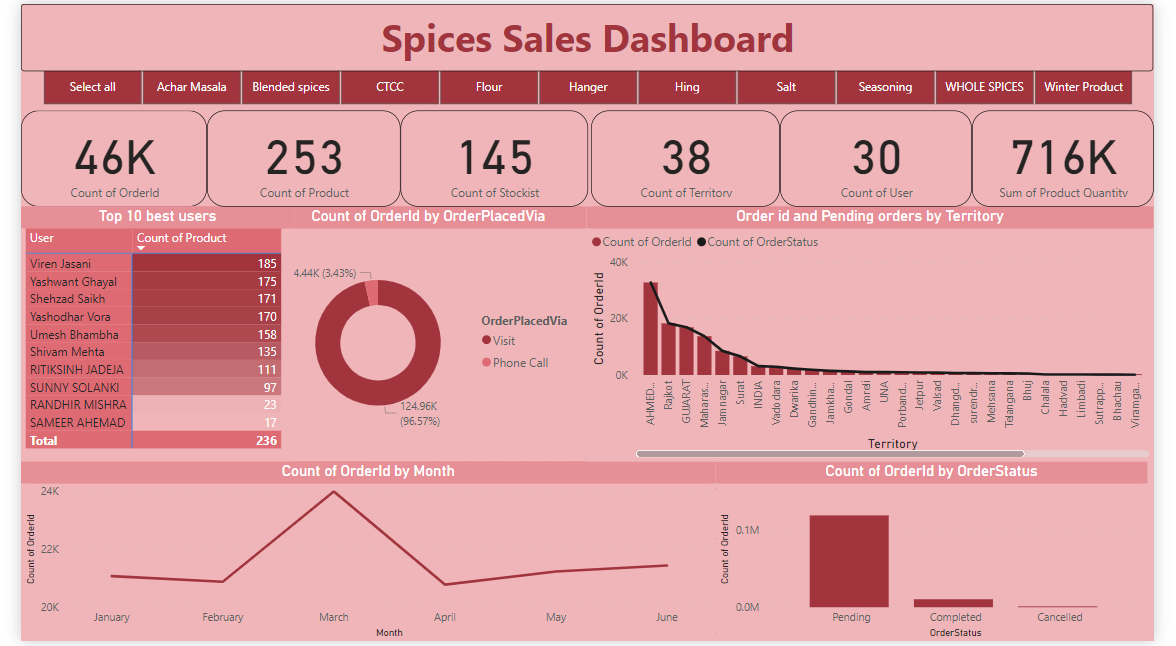

This screenshot's page, from the dashboard's own definition file:
{"tool":"powerbi","page":{"name":"Page 1","canvas":[1280,720],"ordinal":0},"visuals":[{"type":"donutChart","fields":{"Category":["MasterDB.OrderPlacedVia"],"Y":["MasterDB.OrderId"]},"box":[281.4,228.8,357.6,288.1],"z":0},{"type":"card","fields":{"Values":["MasterDB.OrderId"]},"box":[0,120.3,210.2,108.5],"z":1000},{"type":"card","fields":{"Values":["MasterDB.Product"]},"box":[639,608.5,255.9,111.9],"z":2000},{"type":"card","fields":{"Values":["MasterDB.User"]},"box":[674.6,547.5,220.3,111.9],"z":3000},{"type":"slicer","fields":{"Values":["MasterDB.ProductCategory"]},"box":[0,64.4,1279.7,55.9],"z":4000},{"type":"card","fields":{"Values":["MasterDB.Stockist"]},"box":[993.2,608.5,261,111.9],"z":5000},{"type":"card","fields":{"Values":["MasterDB.Territory"]},"box":[715.3,603.4,313.6,108.5],"z":6000},{"type":"clusteredColumnChart","fields":{"Category":["MasterDB.OrderStatus"],"Y":["MasterDB.OrderId"]},"box":[784.7,516.9,488.1,203.4],"z":7000},{"type":"lineChart","fields":{"Category":["MasterDB.OrderDate.Variation.Date Hierarchy.Month"],"Y":["MasterDB.OrderId"]},"box":[0,516.9,784.7,203.4],"z":8000},{"type":"pivotTable","title":"Top 10 best users","fields":{"Values":["MasterDB.Product"],"Rows":["MasterDB.User"]},"box":[0,228.8,308.5,288.1],"z":9000},{"type":"lineClusteredColumnComboChart","title":"Order id and Pending orders by Territory","fields":{"Category":["MasterDB.Territory"],"Y":["MasterDB.OrderId"],"Y2":["MasterDB.OrderStatus"]},"box":[639,228.8,640.7,288.1],"z":10000},{"type":"textbox","box":[0,0,1279.7,76.3],"z":11000},{"type":"card","fields":{"Values":["MasterDB.Product"]},"box":[210.2,120.3,218.6,108.5],"z":12000},{"type":"card","fields":{"Values":["MasterDB.Stockist"]},"box":[428.8,120.3,211.9,108.5],"z":13000},{"type":"card","fields":{"Values":["MasterDB.Territory"]},"box":[644.1,120.3,213.6,108.5],"z":14000},{"type":"card","fields":{"Values":["MasterDB.User"]},"box":[857.6,120.3,216.9,108.5],"z":15000},{"type":"card","fields":{"Values":["MasterDB.Tweight Kgs"]},"box":[1074.6,120.3,205.1,108.5],"z":15001}]}

Visuals, with their boxes in screenshot pixels (x1, y1, x2, y2), scaled from the page's 1280x720 canvas onto the 1176x646 screenshot:
donutChart - MasterDB.OrderPlacedVia x MasterDB.OrderId: BBox(259, 205, 587, 464)
card - MasterDB.OrderId: BBox(0, 108, 193, 205)
card - MasterDB.Product: BBox(587, 546, 822, 645)
card - MasterDB.User: BBox(620, 491, 822, 592)
slicer - MasterDB.ProductCategory: BBox(0, 58, 1175, 108)
card - MasterDB.Stockist: BBox(913, 546, 1152, 645)
card - MasterDB.Territory: BBox(657, 541, 945, 639)
clusteredColumnChart - MasterDB.OrderStatus x MasterDB.OrderId: BBox(721, 464, 1169, 645)
lineChart - MasterDB.OrderDate.Variation.Date Hierarchy.Month x MasterDB.OrderId: BBox(0, 464, 721, 645)
"Top 10 best users" pivotTable: BBox(0, 205, 283, 464)
"Order id and Pending orders by Territory" lineClusteredColumnComboChart: BBox(587, 205, 1175, 464)
textbox: BBox(0, 0, 1175, 68)
card - MasterDB.Product: BBox(193, 108, 394, 205)
card - MasterDB.Stockist: BBox(394, 108, 589, 205)
card - MasterDB.Territory: BBox(592, 108, 788, 205)
card - MasterDB.User: BBox(788, 108, 987, 205)
card - MasterDB.Tweight Kgs: BBox(987, 108, 1175, 205)
